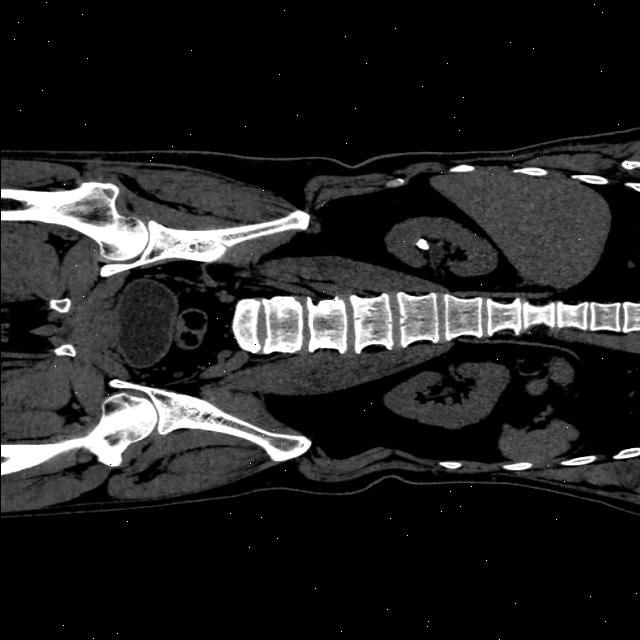kidneystone: (414, 238, 428, 251)
